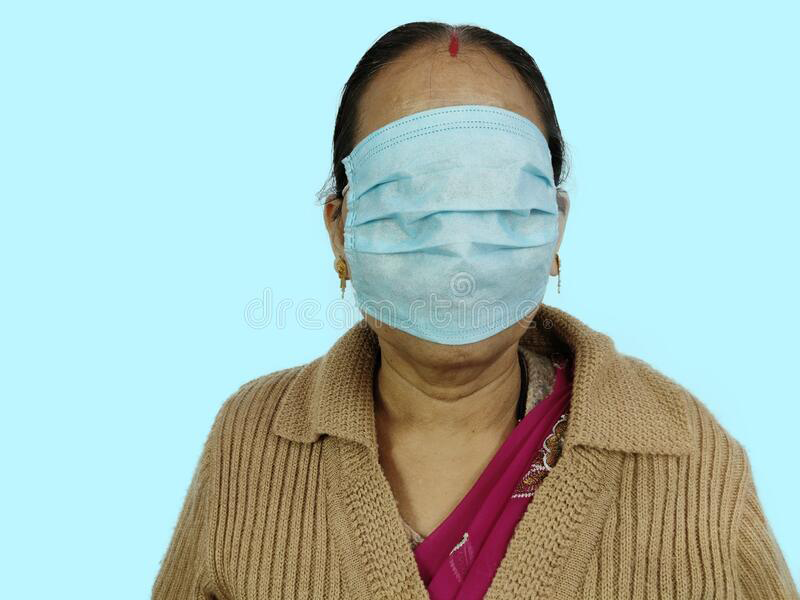mask_weared_incorrect: (341, 100, 567, 360)
